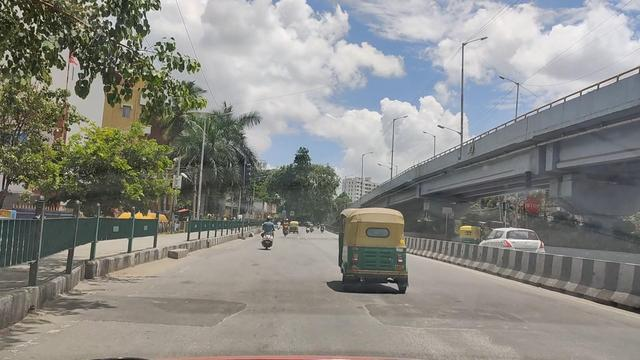LMV: (338, 204, 412, 290)
RoadDamages: (368, 301, 490, 356)
